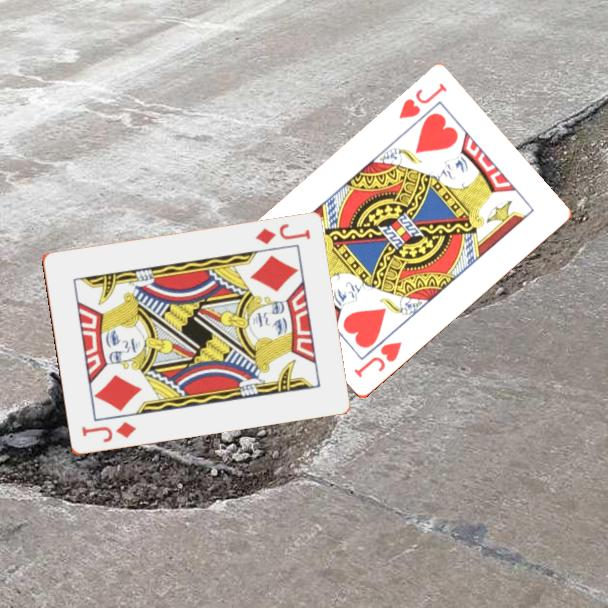d11: (78, 419, 139, 446), (252, 220, 313, 247)
h11: (350, 338, 405, 381), (395, 80, 450, 122)
